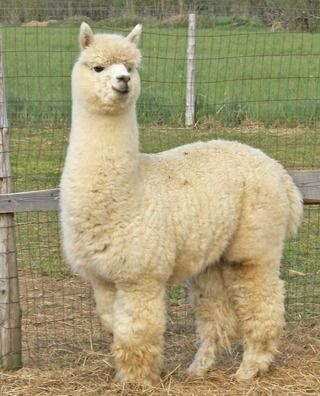alpaca: (58, 21, 303, 382)
